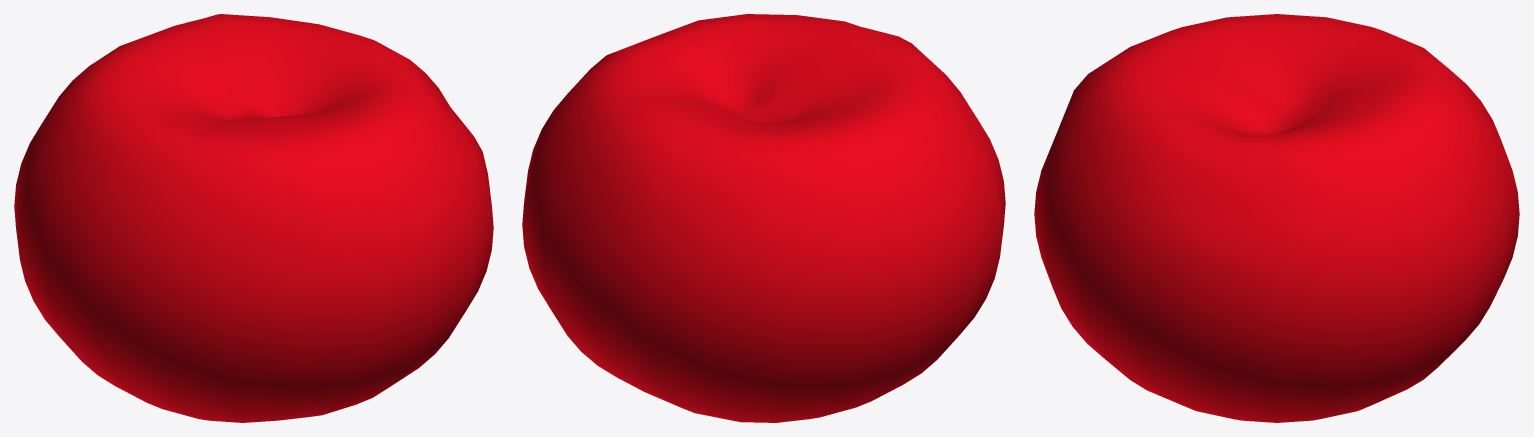
Rendered from Tomato.fbx.
3 views of the same model, side by side, from view 1: azimuth 30°, elevation 25°; view 2: azimuth 150°, elevation 25°; view 3: azimuth 270°, elevation 25° (orthographic).
Visible parts, largest first — view 1: Tomato; view 2: Tomato; view 3: Tomato.
Boxes of the visible parts, bbox=[...] form: Tomato: bbox=[14, 14, 493, 422]; Tomato: bbox=[522, 14, 1005, 422]; Tomato: bbox=[1034, 14, 1519, 422].
Size of the model in its own units: 200 by 146 by 200.
